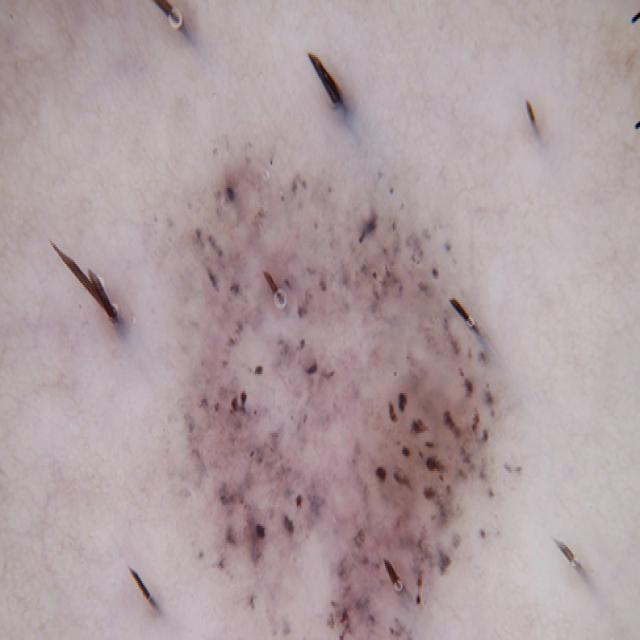Keratosis: (159, 129, 535, 640)
